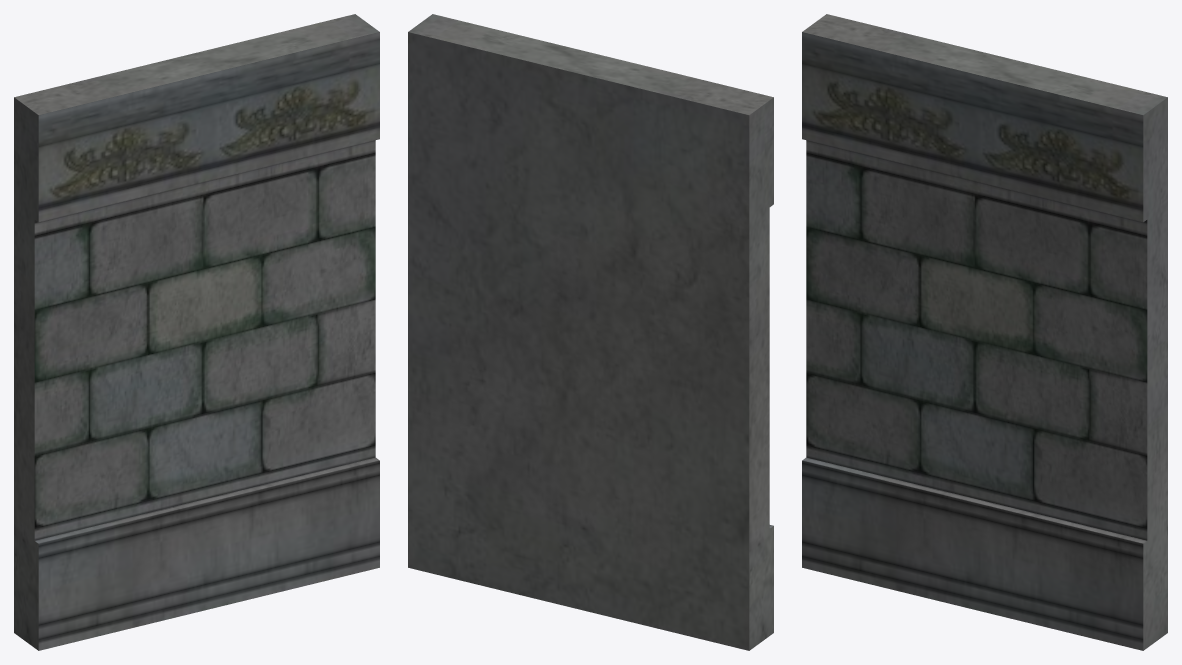
Rendered from wall_small_half_01.glb.
The picture shows the model from 3 angles, left to right: view 1: azimuth 30°, elevation 25°; view 2: azimuth 150°, elevation 25°; view 3: azimuth 330°, elevation 25°; orthographic projection.
Visible parts, largest first — view 1: wall_small_half_01; view 2: wall_small_half_01; view 3: wall_small_half_01.
Part boxes in pixels (box(x1,y1,x2,y2)): wall_small_half_01: box(14, 14, 379, 650); wall_small_half_01: box(408, 14, 773, 650); wall_small_half_01: box(802, 14, 1167, 650).
Size of the model in its own units: 2 by 3 by 0.25.
1 material, 1 textured.
